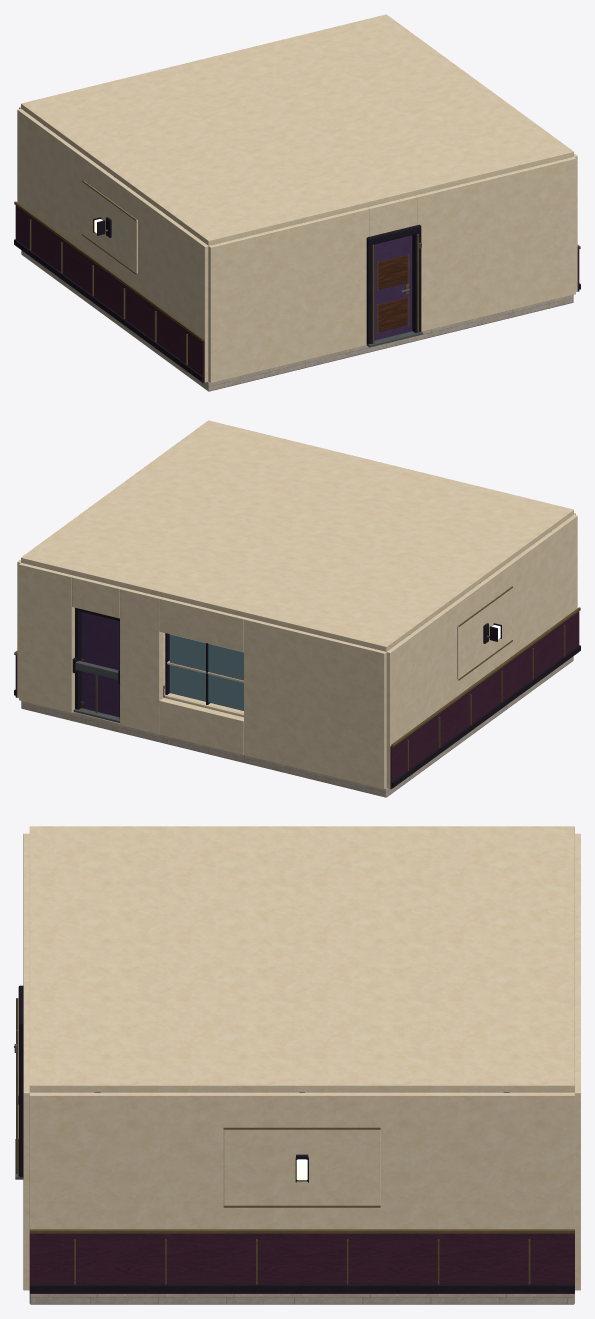
File: explore3d__service_lounge.glb
3 views of the same model, one above another, from view 1: azimuth 30°, elevation 25°; view 2: azimuth 150°, elevation 25°; view 3: azimuth 270°, elevation 25° (orthographic). The views are drawn at different scales.
Visible parts, largest first — view 1: ceiling_surface, front_wall.002, front_wall, left_wall, left_wainscot, floor, left_upper_inset, service_lounge_leaf.001, front_wall.001, left_skirt, left_rail, service_lounge_recessed_panel.003 (+4 smaller); view 2: ceiling_surface, back_wall, left_wall, back_wall.005, left_wainscot, back_wall.003, floor, service_lounge_glass, service_lounge_leaf, back_wall.001, back_wall.002, left_upper_inset (+4 smaller); view 3: ceiling_surface, right_wall, right_wainscot, right_upper_inset, floor, right_skirt, right_rail, front_wall, back_wall.005, service_lounge_jamb.003, front_wall.002, back_wall.
Part boxes in pixels (x1,y1,x2,y2): ceiling_surface: [21, 14, 573, 245]; front_wall.002: [208, 207, 369, 383]; front_wall: [415, 156, 575, 331]; left_wall: [17, 108, 208, 382]; left_wainscot: [15, 205, 204, 383]; floor: [21, 250, 573, 391]; left_upper_inset: [83, 181, 137, 273]; service_lounge_leaf.001: [374, 235, 412, 340]; front_wall.001: [367, 195, 417, 236]; left_skirt: [14, 239, 203, 381]; left_rail: [14, 201, 203, 341]; service_lounge_recessed_panel.003: [378, 255, 407, 289]; ceiling_surface: [21, 420, 573, 651]; back_wall: [244, 617, 386, 789]; left_wall: [386, 514, 577, 788]; back_wall.005: [19, 562, 74, 712]; left_wainscot: [390, 611, 579, 789]; back_wall.003: [120, 587, 163, 734]; floor: [21, 632, 573, 797]; service_lounge_glass: [169, 634, 243, 710]; service_lounge_leaf: [81, 612, 119, 717]; back_wall.001: [159, 697, 243, 754]; back_wall.002: [159, 597, 245, 651]; left_upper_inset: [457, 587, 511, 679]; ceiling_surface: [29, 826, 574, 1092]; right_wall: [29, 1092, 574, 1229]; right_wainscot: [29, 1233, 574, 1293]; right_upper_inset: [223, 1129, 380, 1205]; floor: [29, 1294, 574, 1304]; right_skirt: [29, 1284, 574, 1292]; right_rail: [29, 1229, 574, 1233]; front_wall: [23, 980, 29, 1290]; back_wall.005: [574, 1055, 580, 1290]; service_lounge_jamb.003: [18, 1028, 23, 1177]; front_wall.002: [23, 833, 29, 946]; back_wall: [575, 833, 580, 933].
Size of the model in its own units: 9.96 by 3.56 by 8.32.
17 materials, 15 textured.
